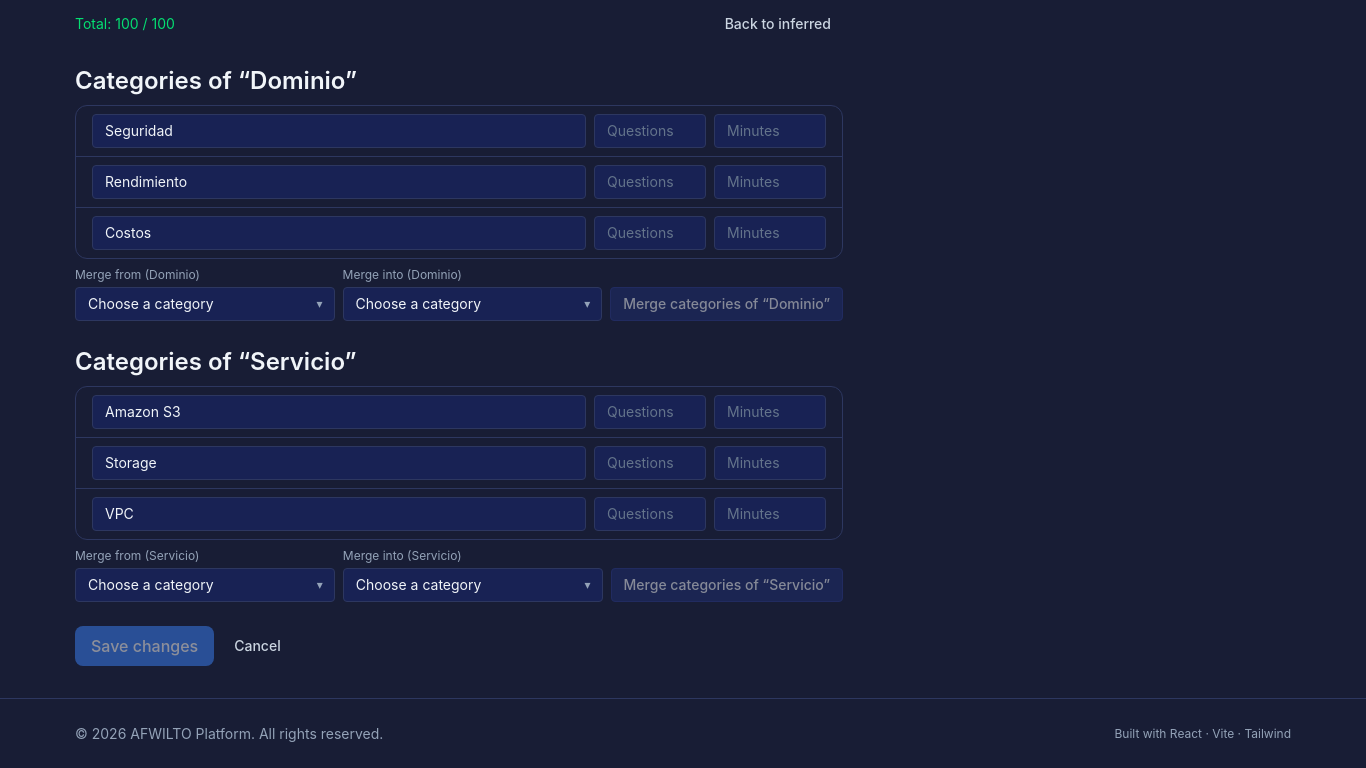
Scenario: ExamEditPage: server failures › a 422 range on a pace value lands on its row, not on a generic alert
(page scrolled)
In the number field named "Pace: questions of “VPC”": (650, 514) [594,497,706,531], type "10"
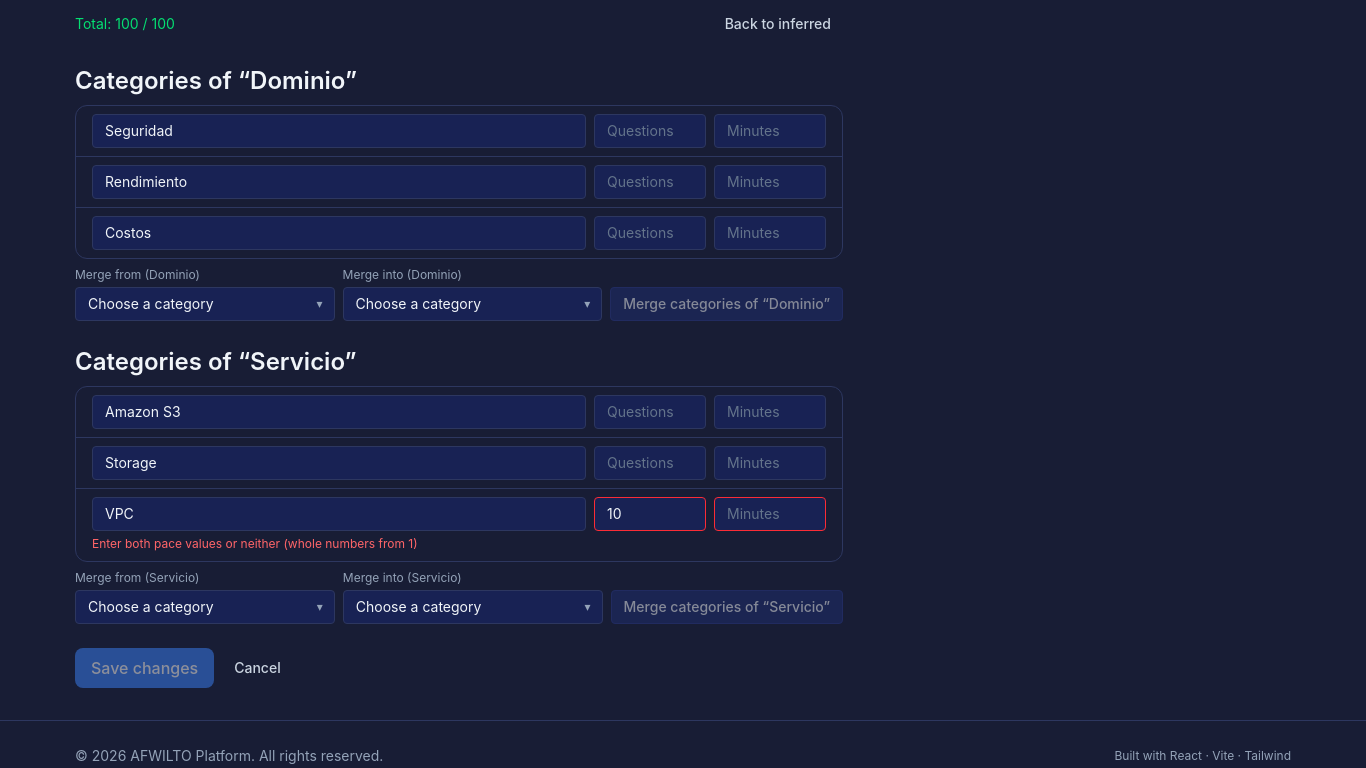
In the number field named "Pace: minutes of “VPC”": (770, 514) [714,497,826,531], type "20"
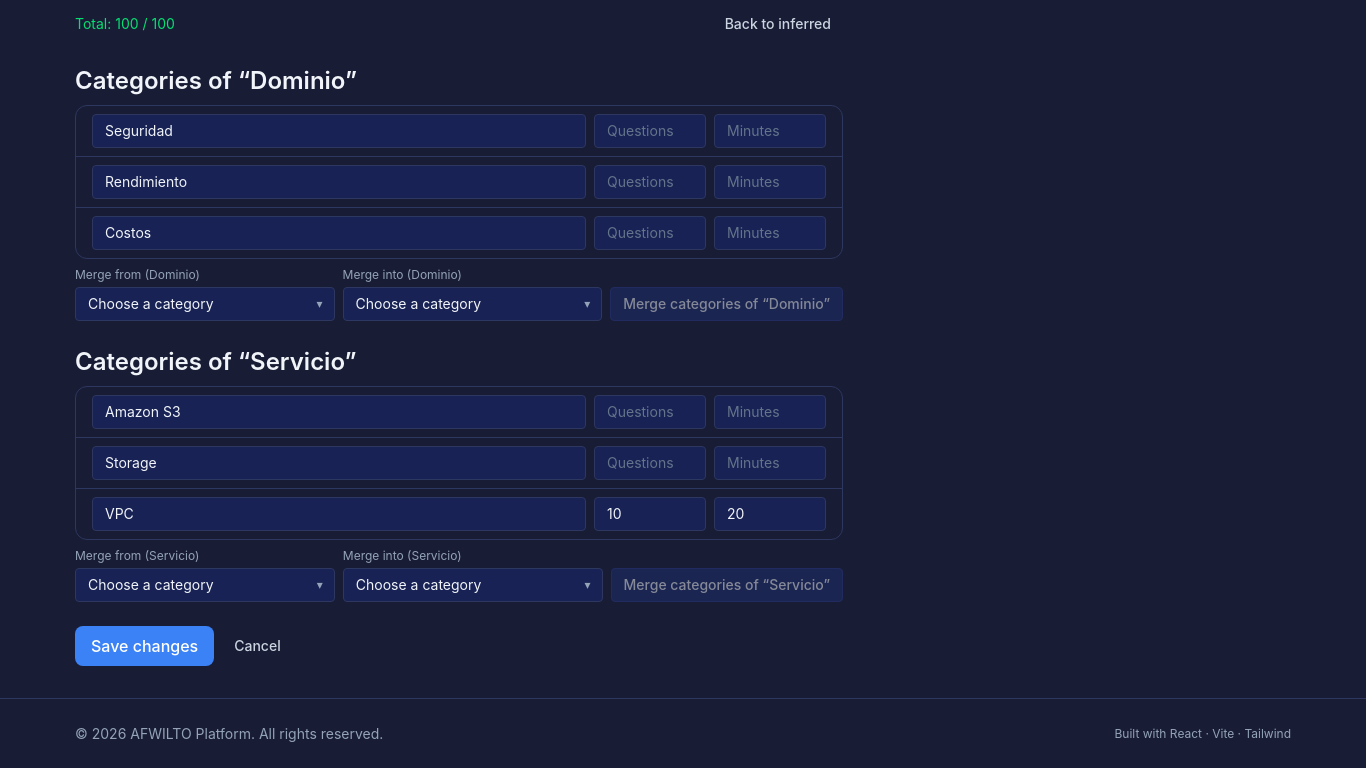
Click the button "Save changes": (145, 646) [75,626,214,666]
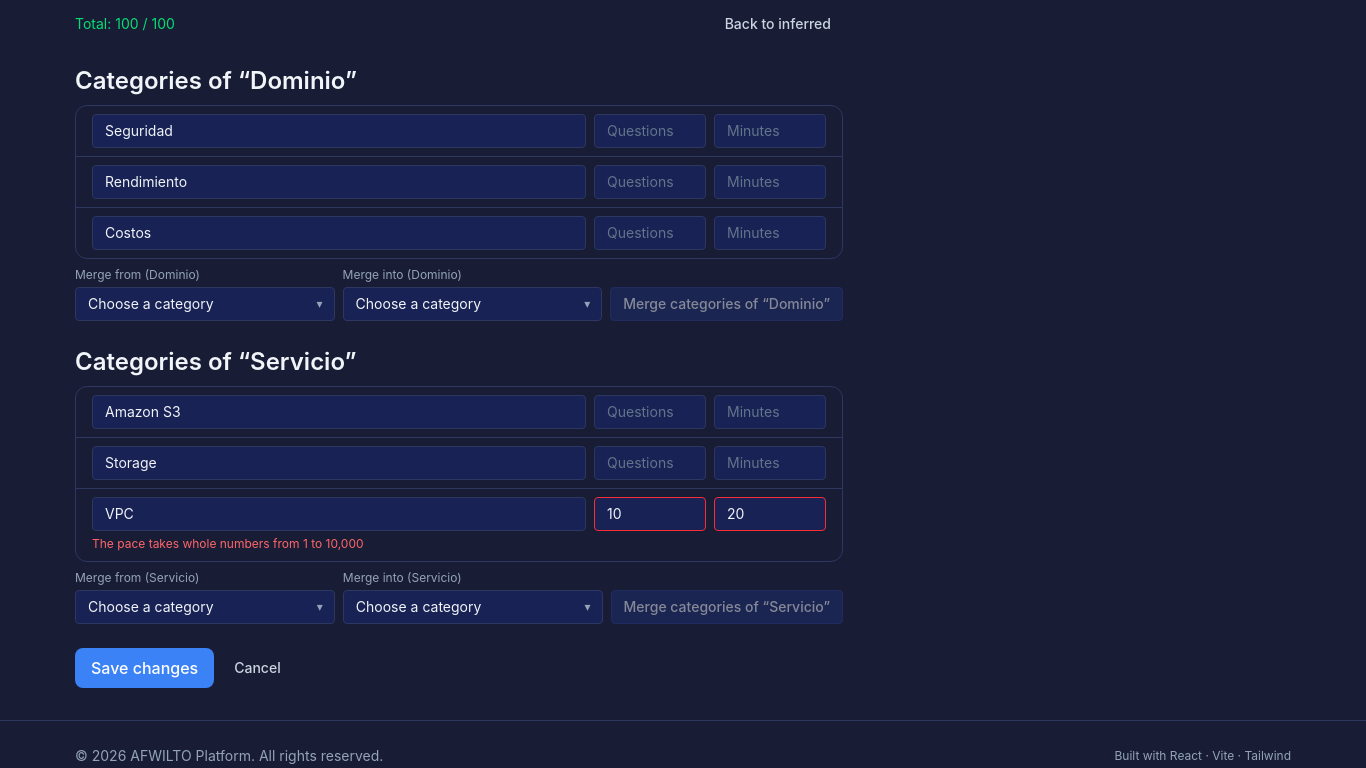
Expected: the text "The pace takes whole numbers from 1 to 10,000" is shown, [92,536,364,551]
